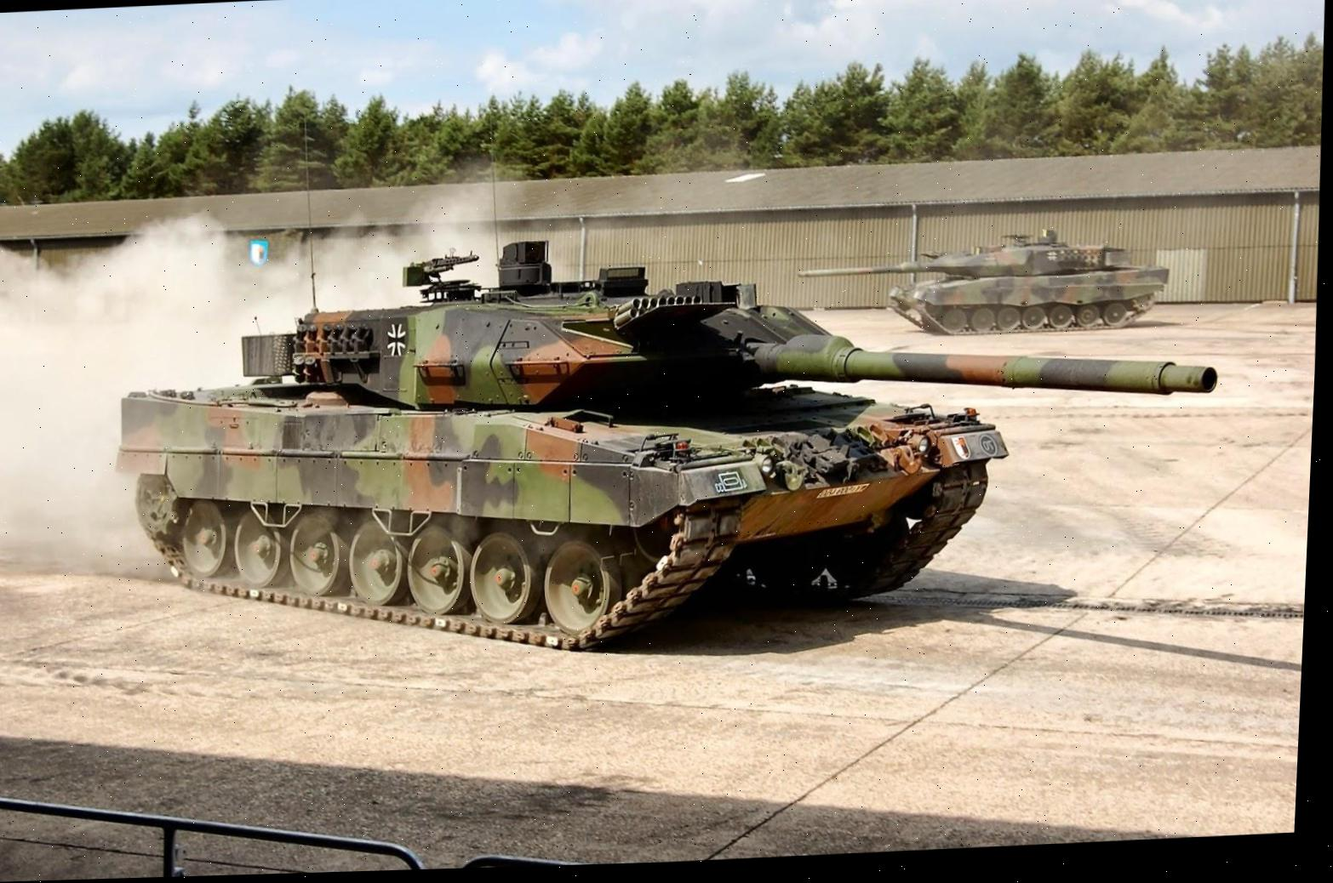tank: (95, 204, 1218, 682), (796, 211, 1218, 342)
